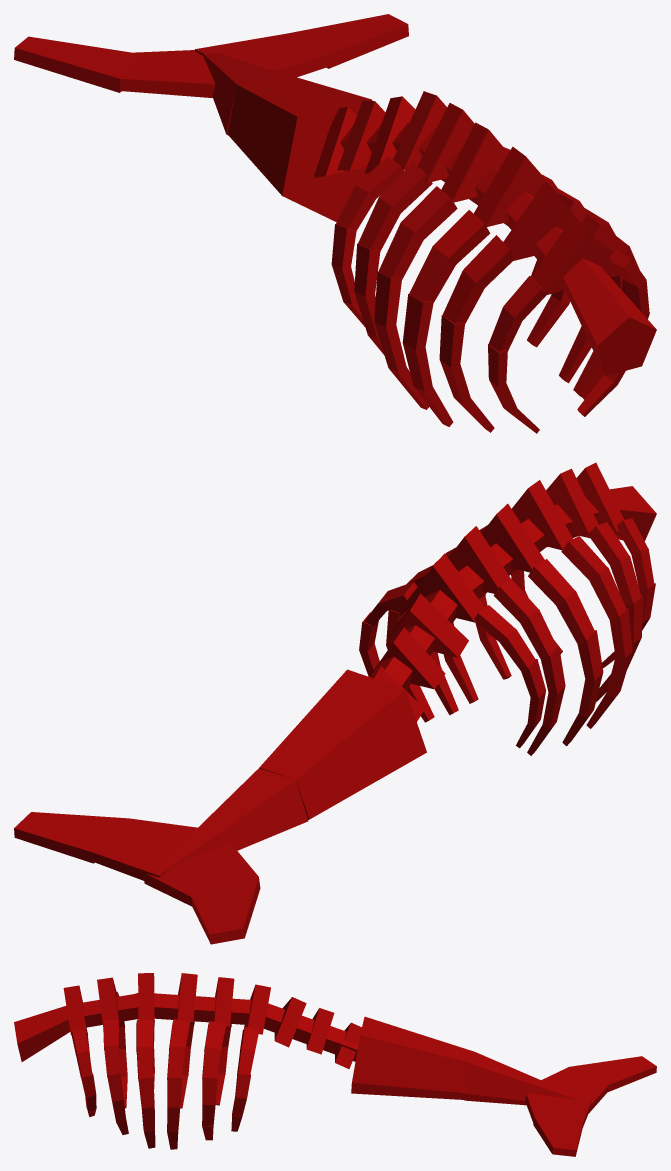
File: SM_Prop_Whale_Skeleton_01_Collision.glb
3 renders of one model, top to bottom at view 1: azimuth 30°, elevation 25°; view 2: azimuth 150°, elevation 25°; view 3: azimuth 270°, elevation 25°, orthographic. The views are drawn at different scales.
Visible parts, largest first — view 1: SM_Prop_Whale_Skeleton_01_Collision; view 2: SM_Prop_Whale_Skeleton_01_Collision; view 3: SM_Prop_Whale_Skeleton_01_Collision.
Part boxes in pixels (x1,y1,x2,y2): SM_Prop_Whale_Skeleton_01_Collision: (14, 14, 656, 433); SM_Prop_Whale_Skeleton_01_Collision: (14, 462, 656, 944); SM_Prop_Whale_Skeleton_01_Collision: (14, 973, 656, 1156).
Size of the model in its own units: 8.31 by 6.12 by 22.76.
